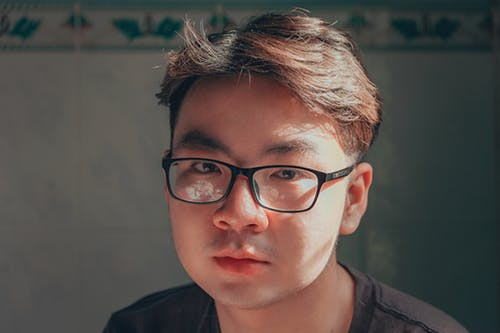bare: (165, 187, 333, 308)
